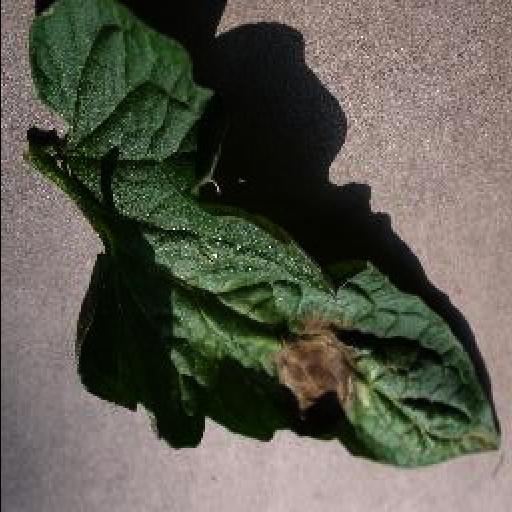disease_tomato: (28, 0, 500, 470)
